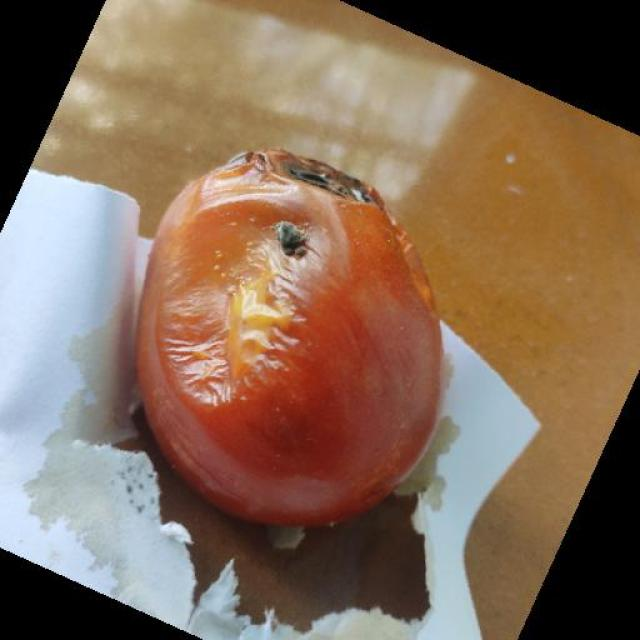Stale_tomato: (143, 121, 448, 520)
